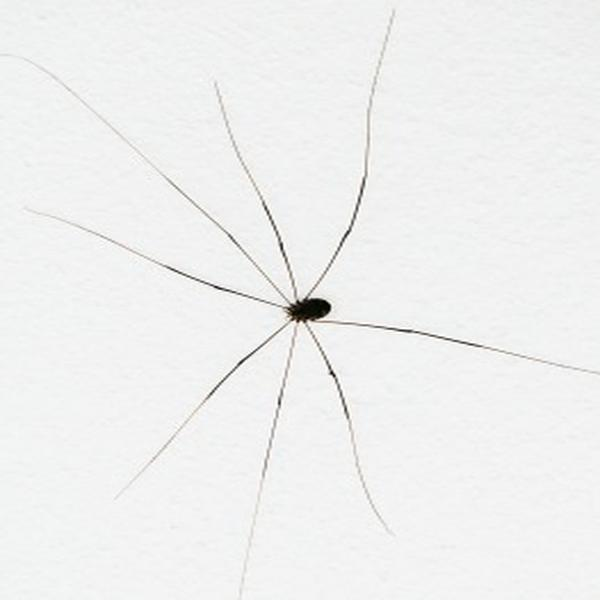Daddy Long Legs Spider: (33, 45, 600, 549)
